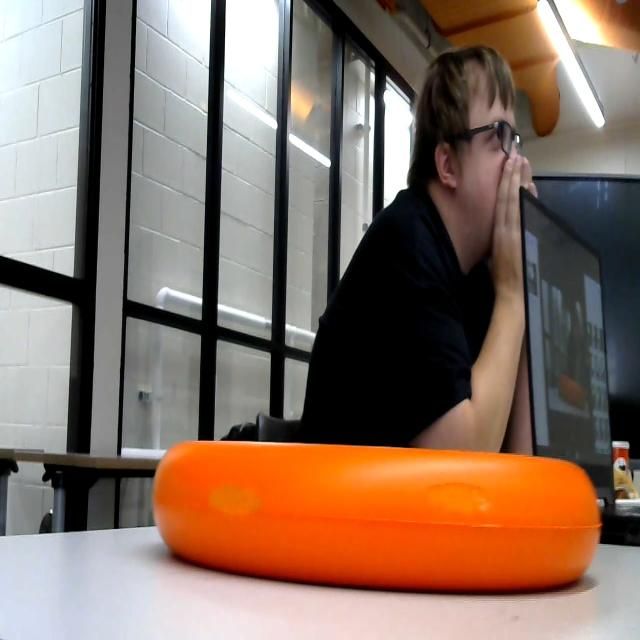note: (146, 419, 610, 634)
